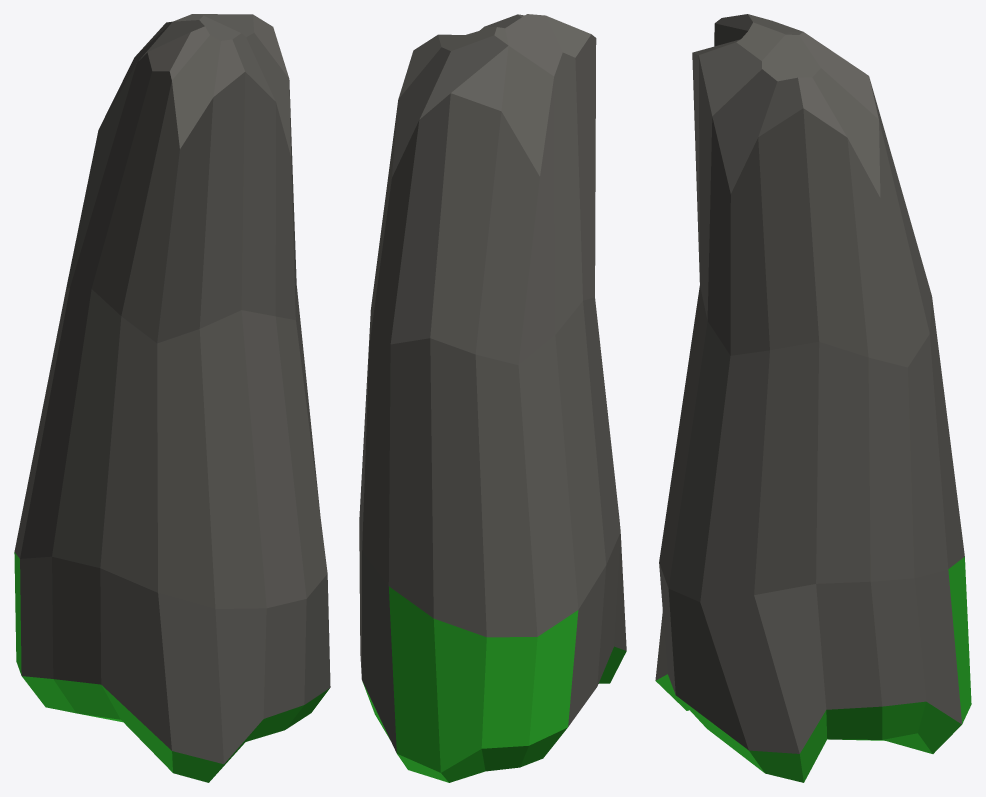
The model's file is Rock type 5.fbx.
The picture shows the model from 3 angles, left to right: view 1: azimuth 30°, elevation 25°; view 2: azimuth 150°, elevation 25°; view 3: azimuth 270°, elevation 25°; orthographic projection. The views are drawn at different scales.
Visible parts, largest first — view 1: Cube; view 2: Cube; view 3: Cube.
Boxes of the visible parts, x1,y1,x2,y2 form: Cube: [14, 14, 330, 782]; Cube: [359, 14, 626, 782]; Cube: [655, 14, 971, 782].
Size of the model in its own units: 156 by 421 by 168.
